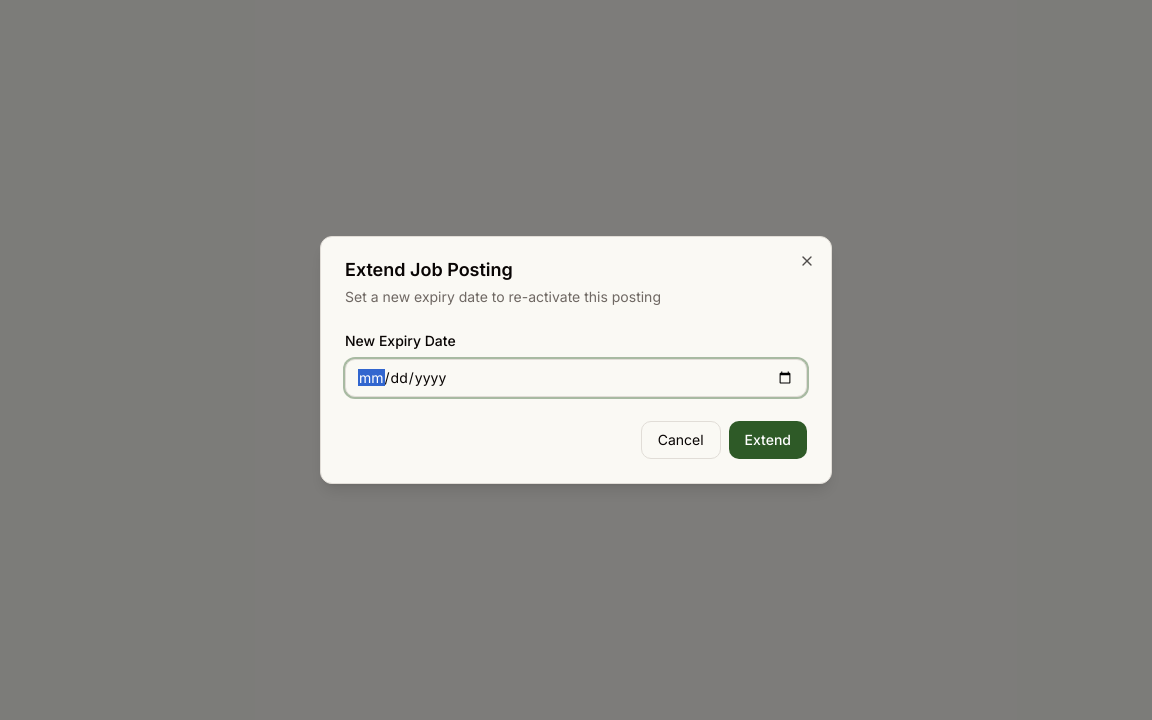
Scenario: ExtendPostingModal › shows validation error when no date is provided
Click the button with test id "extend-confirm-button": (768, 440) [729,421,807,459]
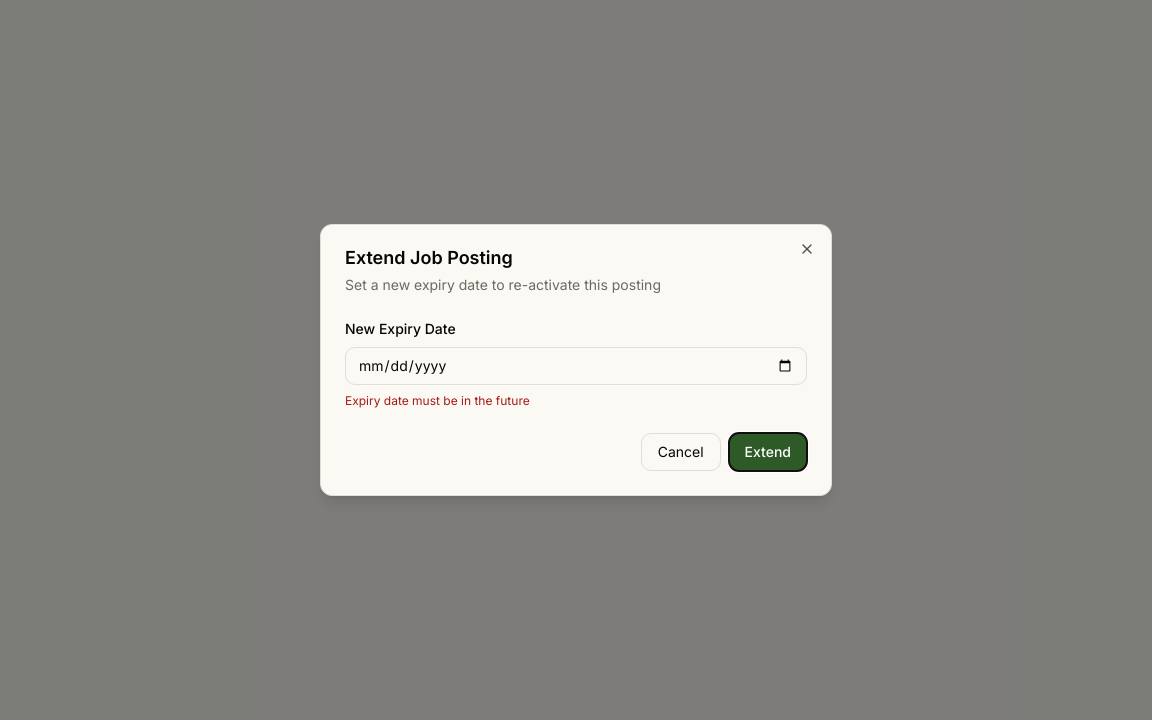
Check: the message reads "Expiry date must be in the future", box [345,393,530,408]
